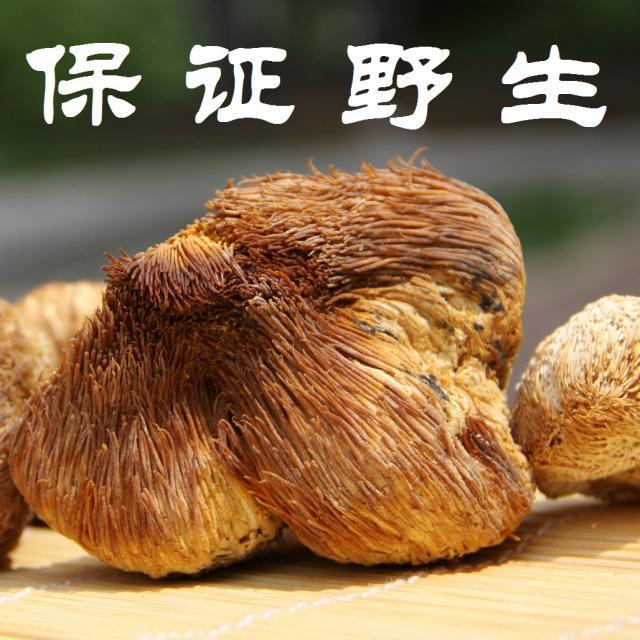Hericium erinaceus: (8, 168, 536, 575), (514, 293, 640, 505)
